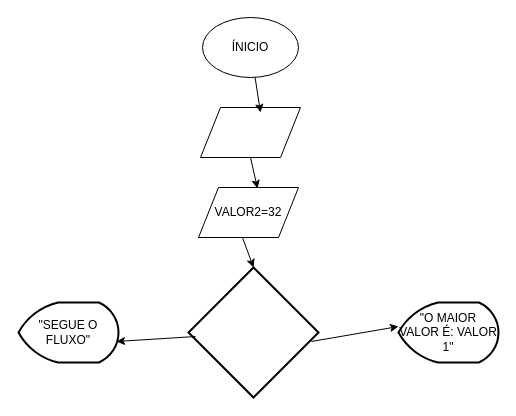
This 516x416 diagram has some shape labels left out. Here are the shapes that lost their labels. From the top down, the centre of each, then its label:
the point at 250,132: VALOR1=30
the point at 253,332: VALOR1>VALOR2
